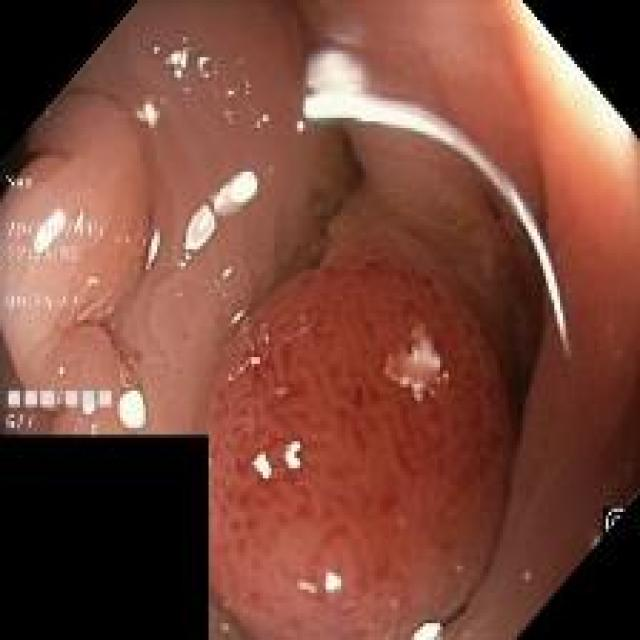Polyps: (211, 259, 515, 640)
